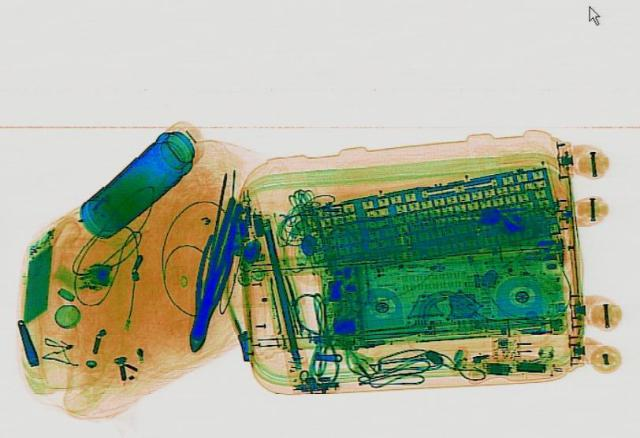Pliers: (176, 201, 246, 351)
